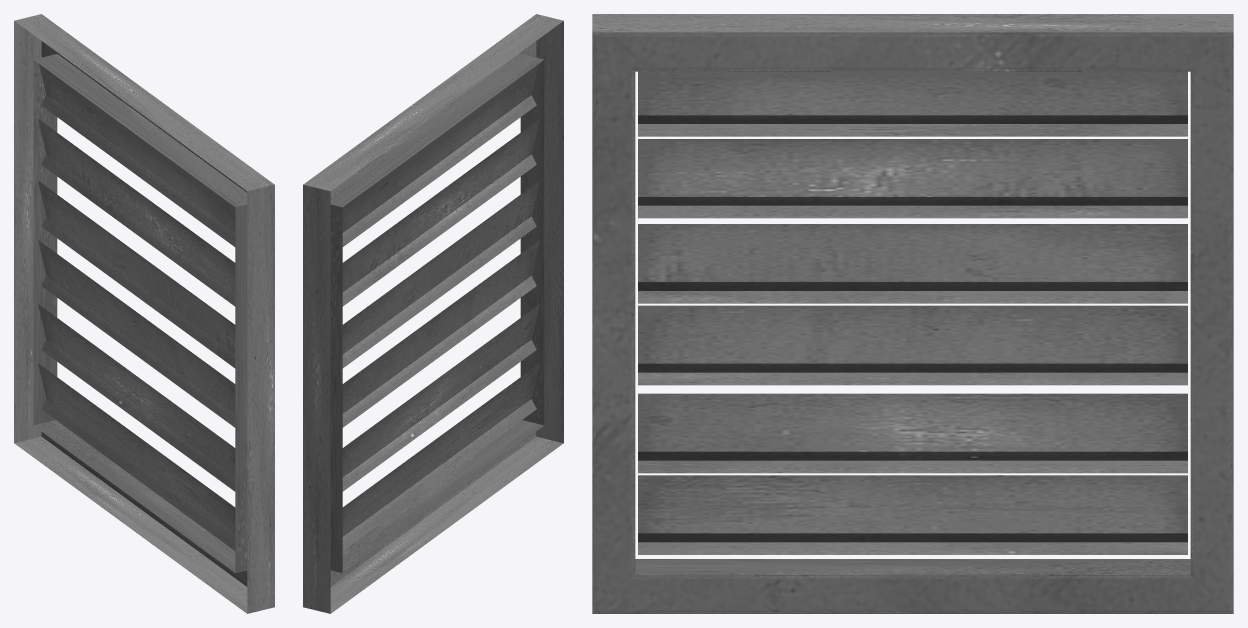
Rendered from luftschacht.obj.
3 renders of one model, left to right at view 1: azimuth 30°, elevation 25°; view 2: azimuth 150°, elevation 25°; view 3: azimuth 270°, elevation 25°, orthographic. The views are drawn at different scales.
Visible parts, largest first — view 1: Cube.002_Cube.035; view 2: Cube.002_Cube.035; view 3: Cube.002_Cube.035.
Part boxes in pixels (x1,y1,x2,y2): Cube.002_Cube.035: [14, 14, 274, 613]; Cube.002_Cube.035: [303, 14, 563, 613]; Cube.002_Cube.035: [592, 14, 1233, 613].
Size of the model in its own units: 0.5723 by 8.34 by 8.34.
